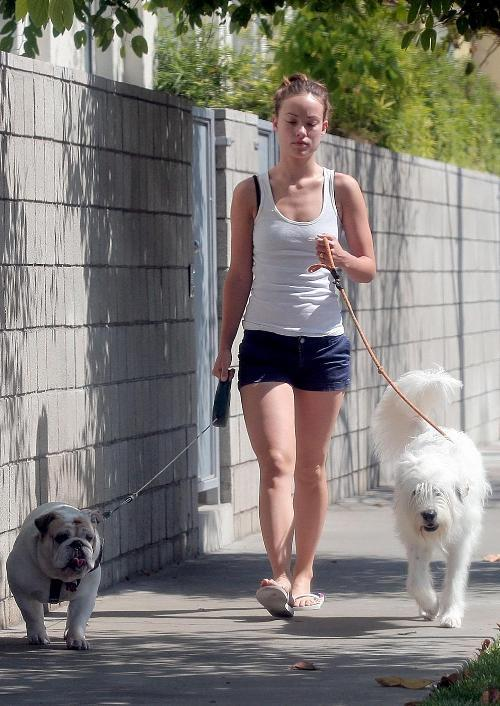person: (214, 78, 375, 608)
